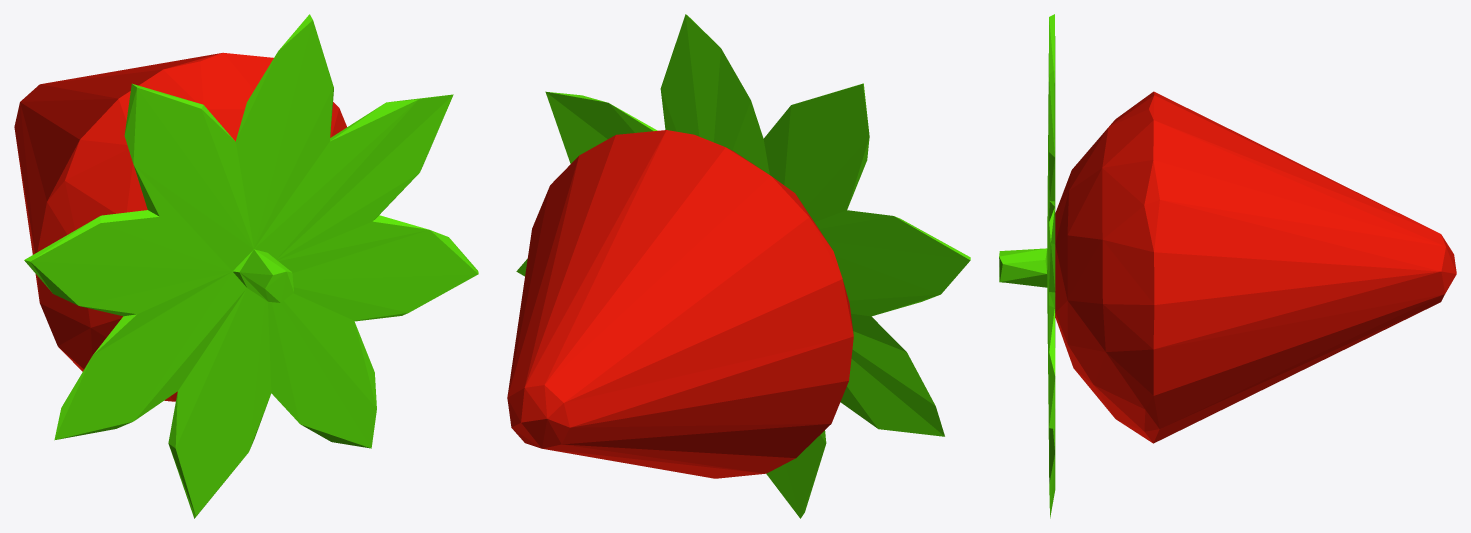
File: str.fbx
3 views of the same model, side by side, from view 1: azimuth 30°, elevation 25°; view 2: azimuth 150°, elevation 25°; view 3: azimuth 270°, elevation 25° (orthographic). The views are drawn at different scales.
Visible parts, largest first — view 1: 零件3; view 2: 零件3; view 3: 零件3.
Boxes of the visible parts, x1,y1,x2,y2 form: 零件3: (14, 14, 478, 518); 零件3: (507, 14, 970, 518); 零件3: (999, 14, 1456, 518).
Bounding box in the file's own units: 6942 × 6962 × 6435.
